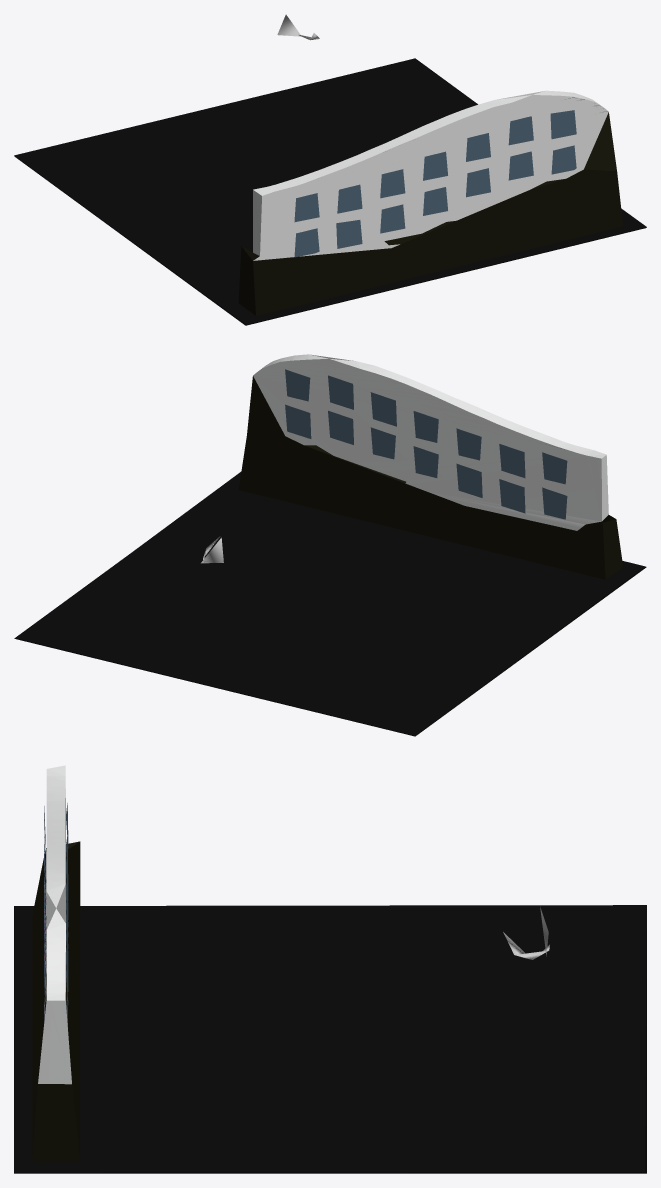
File: QmXL7CFgnHyvvDYu6S8yPa1pNntts1cQDst5UzQESipc65_lod2.fbx
The picture shows the model from 3 angles, top to bottom: view 1: azimuth 30°, elevation 25°; view 2: azimuth 150°, elevation 25°; view 3: azimuth 270°, elevation 25°; orthographic projection. The views are drawn at different scales.
Visible parts, largest first — view 1: Entity_513; view 2: Entity_513; view 3: Entity_513.
Boxes of the visible parts, bbox=[...] form: Entity_513: bbox=[14, 14, 646, 325]; Entity_513: bbox=[14, 354, 646, 736]; Entity_513: bbox=[14, 765, 646, 1173].
Size of the model in its own units: 16012 by 5590 by 16012.
1 material, 1 textured.
